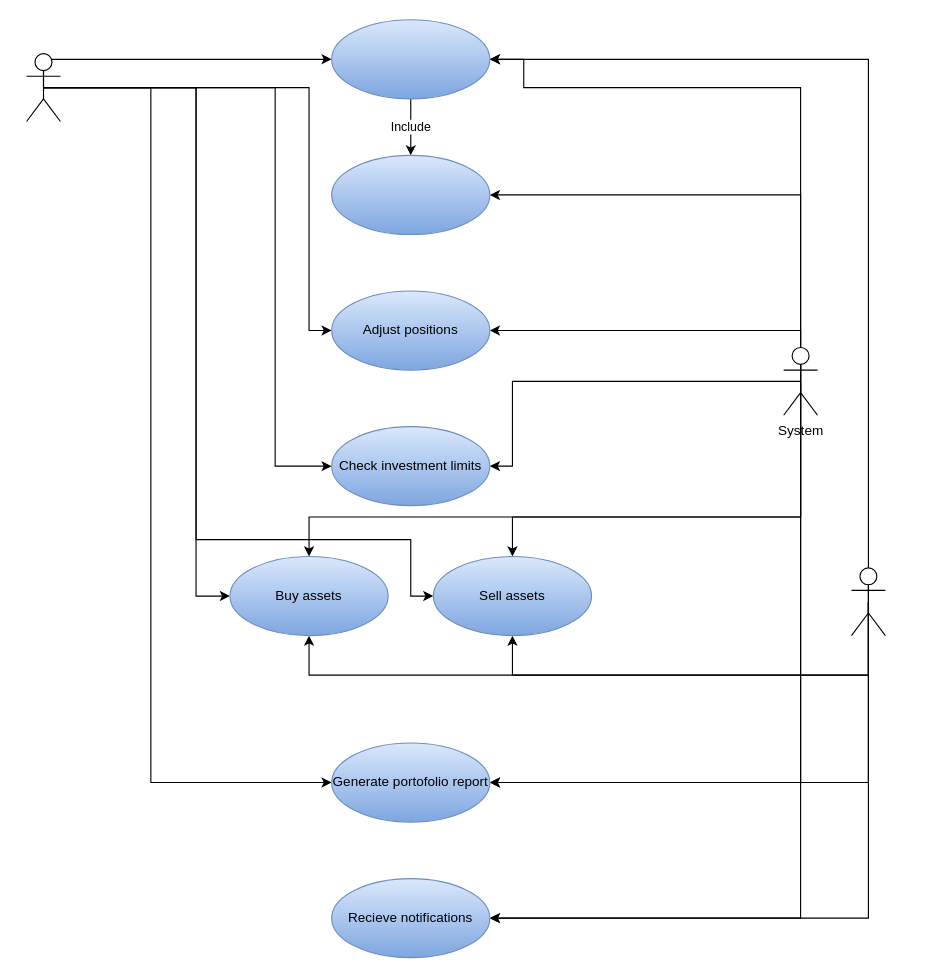
This 950x977 diagram has some shape labels left out. Here are the shapes that lost their labels. From the top down, the box of each, then its label:
(331, 19, 490, 99): View portofolio details
(25, 53, 60, 121): Investor
(331, 154, 490, 234): Analyze portofolio performance
(850, 567, 885, 636): Market data provider
